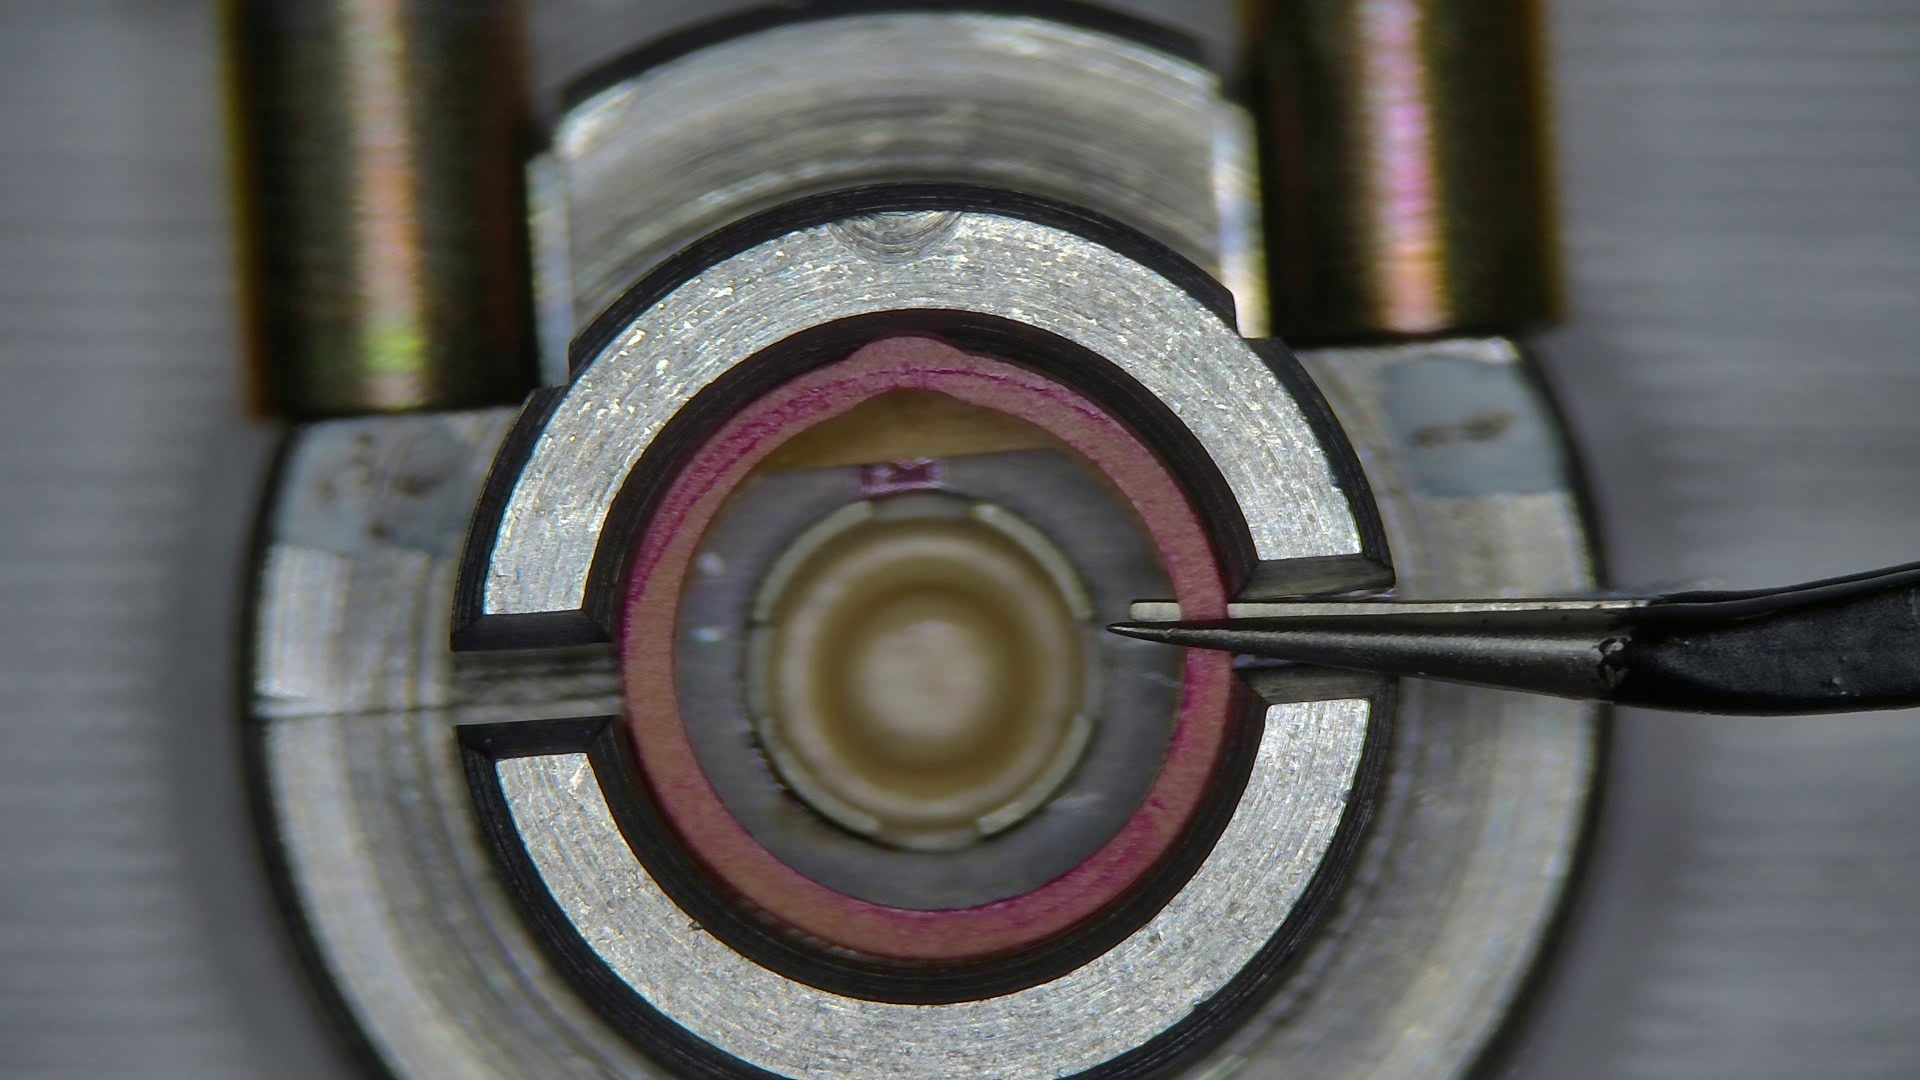GreyOring: (624, 333, 1233, 960)
YellowOring: (679, 453, 1178, 907)
redOring: (747, 390, 1073, 469)
